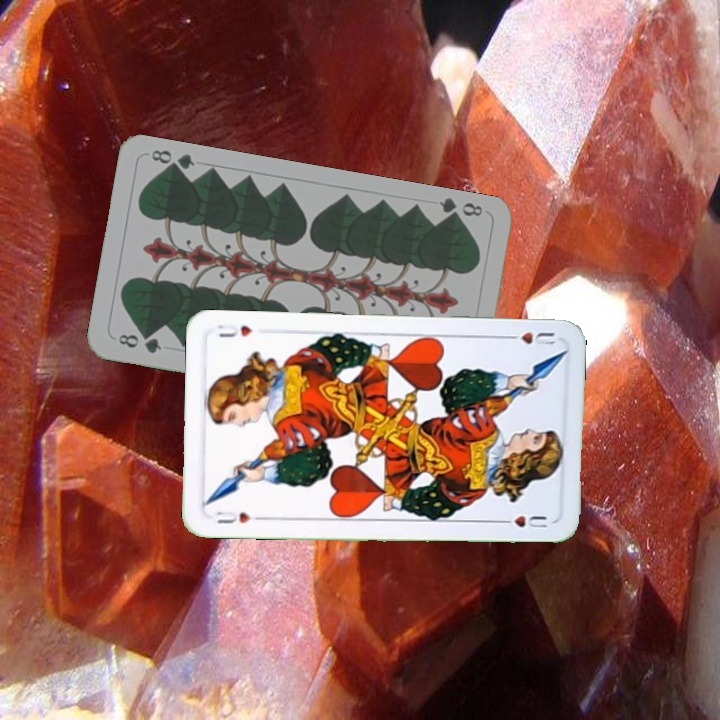G8: (435, 194, 485, 225), (114, 330, 165, 356)
HU: (501, 328, 558, 347), (212, 507, 265, 527)
